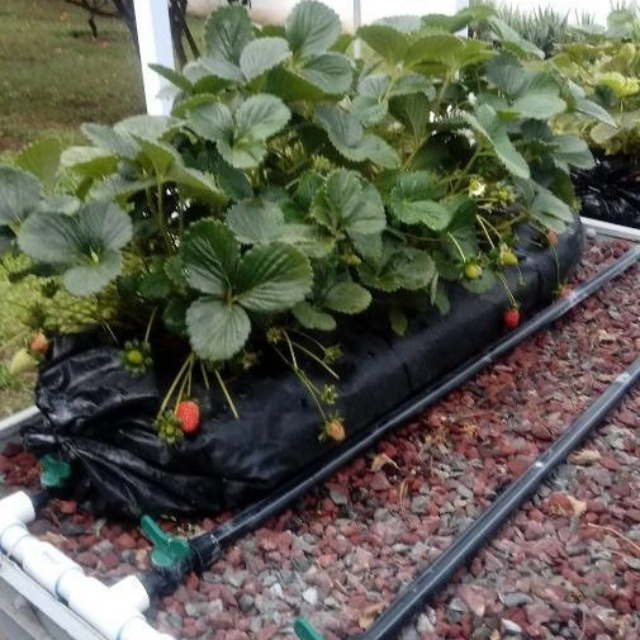obstacle: (29, 28, 606, 480)
